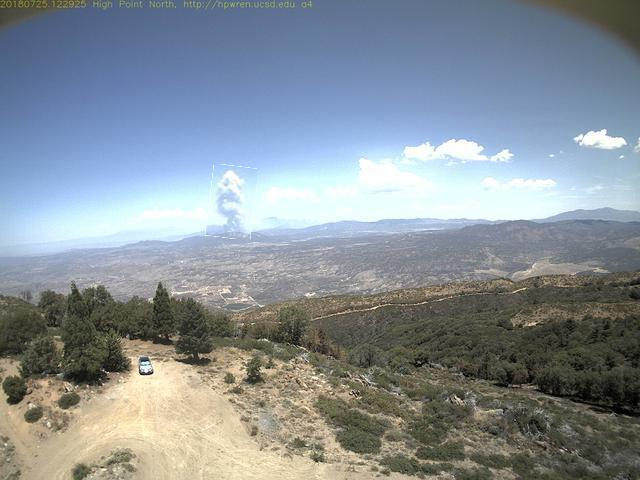smoke: (208, 166, 257, 240)
